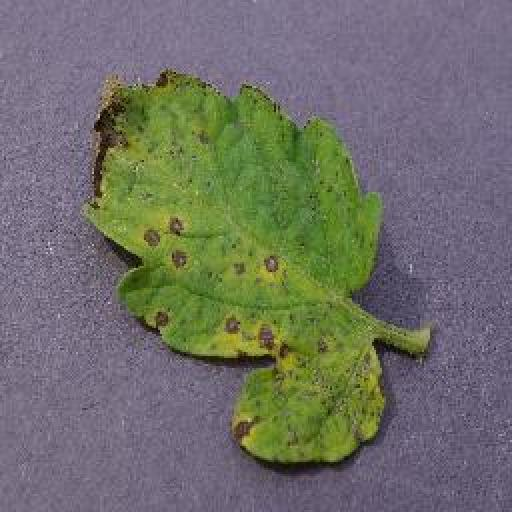Septoria: (82, 66, 389, 466)
